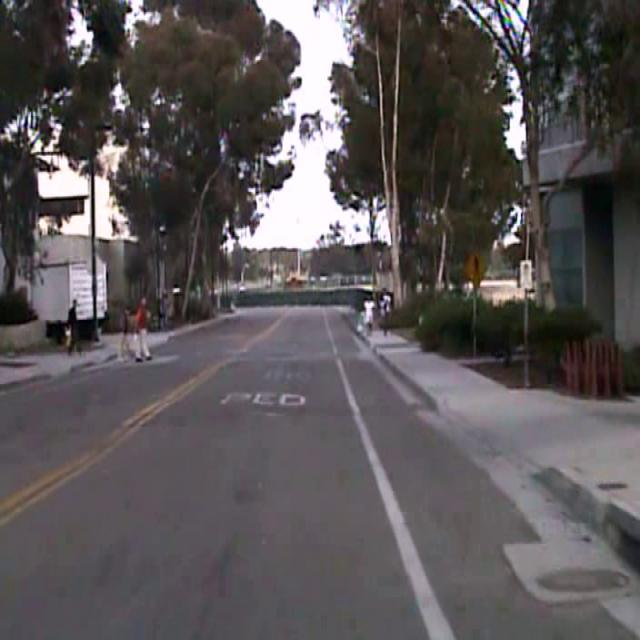pedestrianCrossing: (462, 246, 485, 286)
